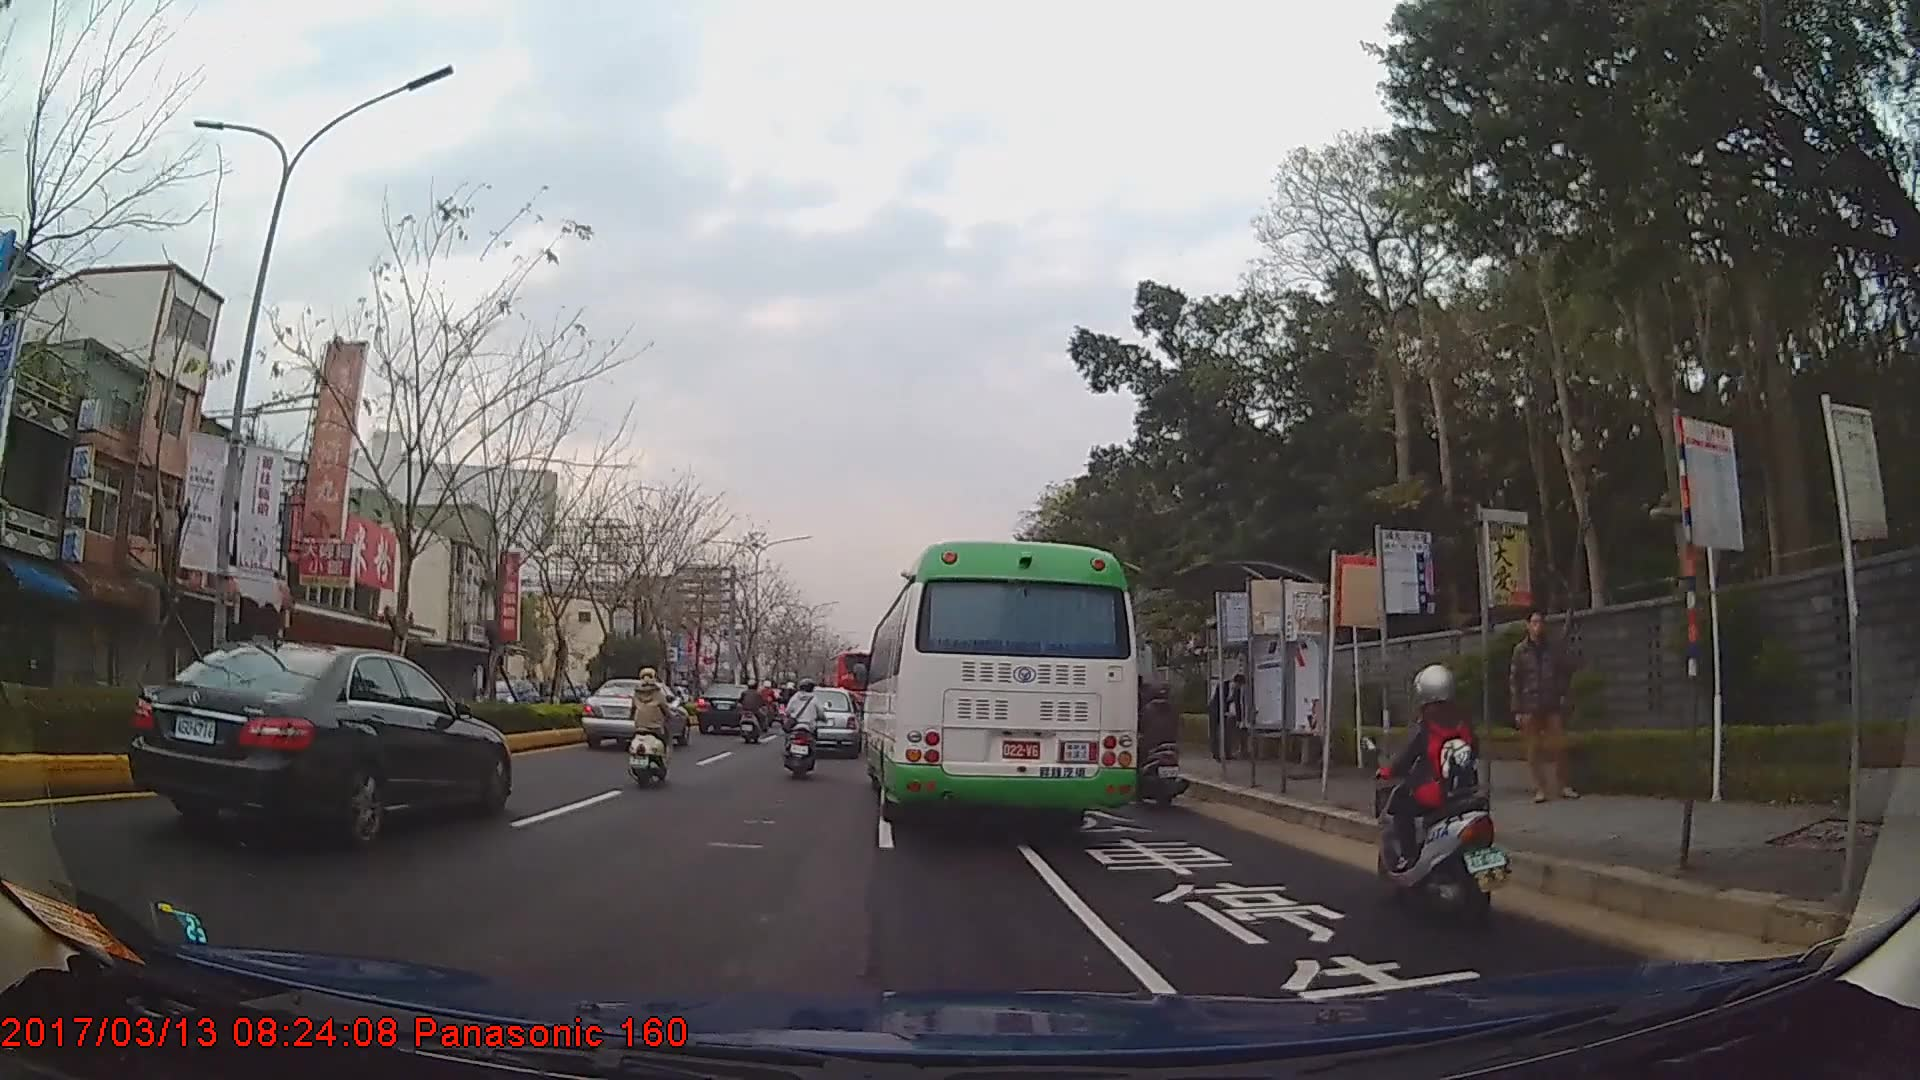pedestrian: (1506, 607, 1581, 804), (1204, 672, 1249, 762)
rider: (1369, 660, 1510, 923), (1133, 679, 1194, 808), (627, 667, 675, 784), (785, 683, 830, 778), (740, 680, 769, 744), (782, 681, 803, 722)
vehicle: (125, 638, 511, 853), (861, 540, 1138, 830), (582, 677, 691, 748), (787, 686, 861, 760), (696, 681, 764, 736), (468, 672, 541, 720)
